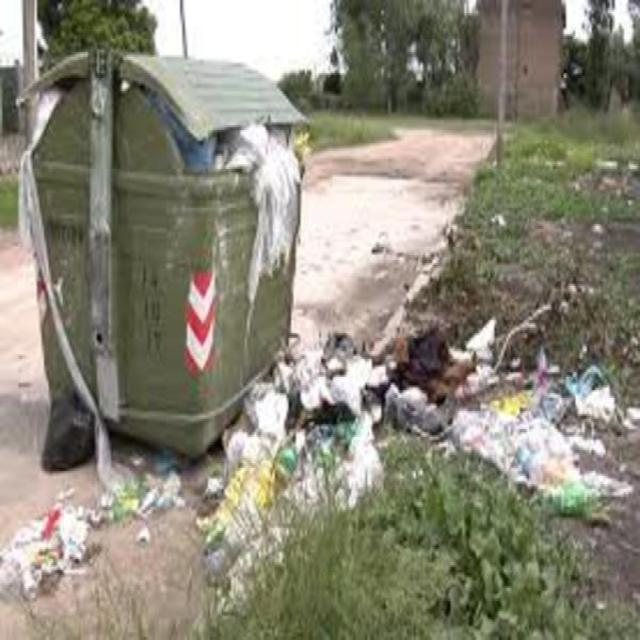garbage: (378, 315, 612, 496), (218, 317, 378, 570), (218, 116, 316, 310)
